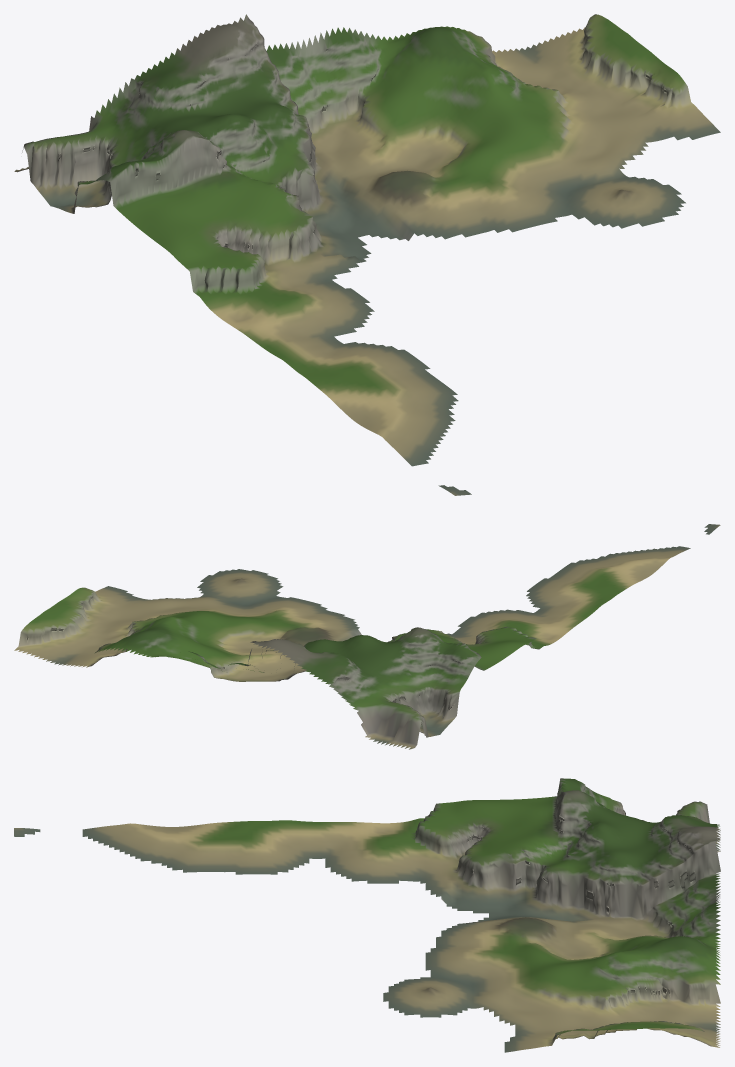
The model's file is coast_tile_x1z2.glb.
3 views of the same model, one above another, from view 1: azimuth 30°, elevation 25°; view 2: azimuth 150°, elevation 25°; view 3: azimuth 270°, elevation 25° (orthographic). The views are drawn at different scales.
Parts seen in each view (by area): view 1: coast_tile_x1z2; view 2: coast_tile_x1z2; view 3: coast_tile_x1z2.
Boxes of the visible parts, bbox=[...] form: coast_tile_x1z2: bbox=[14, 14, 720, 495]; coast_tile_x1z2: bbox=[14, 524, 720, 749]; coast_tile_x1z2: bbox=[14, 778, 720, 1052].
Size of the model in its own units: 600 by 108 by 804.
